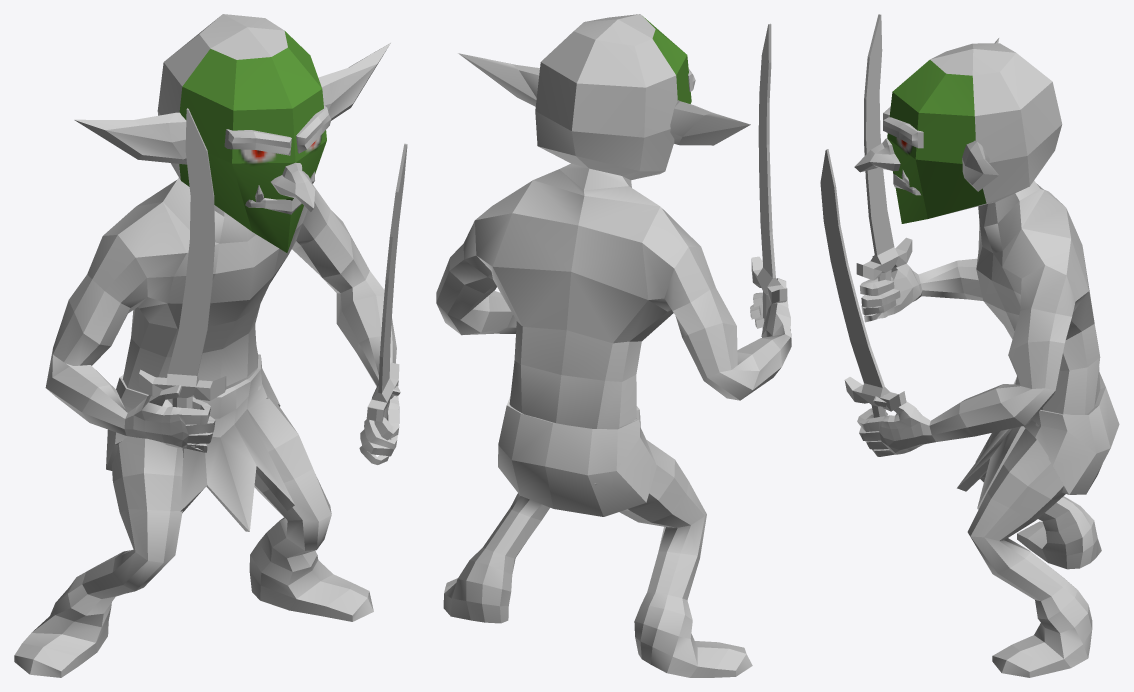
File: GoblinSword.FBX
The picture shows the model from 3 angles, left to right: view 1: azimuth 30°, elevation 25°; view 2: azimuth 150°, elevation 25°; view 3: azimuth 270°, elevation 25°; orthographic projection. The views are drawn at different scales.
Parts seen in each view (by area): view 1: pPlane171; view 2: pPlane171; view 3: pPlane171.
Boxes of the visible parts, box(x1,y1,x2,y2) form: pPlane171: box(14, 14, 407, 677); pPlane171: box(436, 14, 791, 677); pPlane171: box(820, 14, 1119, 677).
Size of the model in its own units: 130 by 225 by 109.
